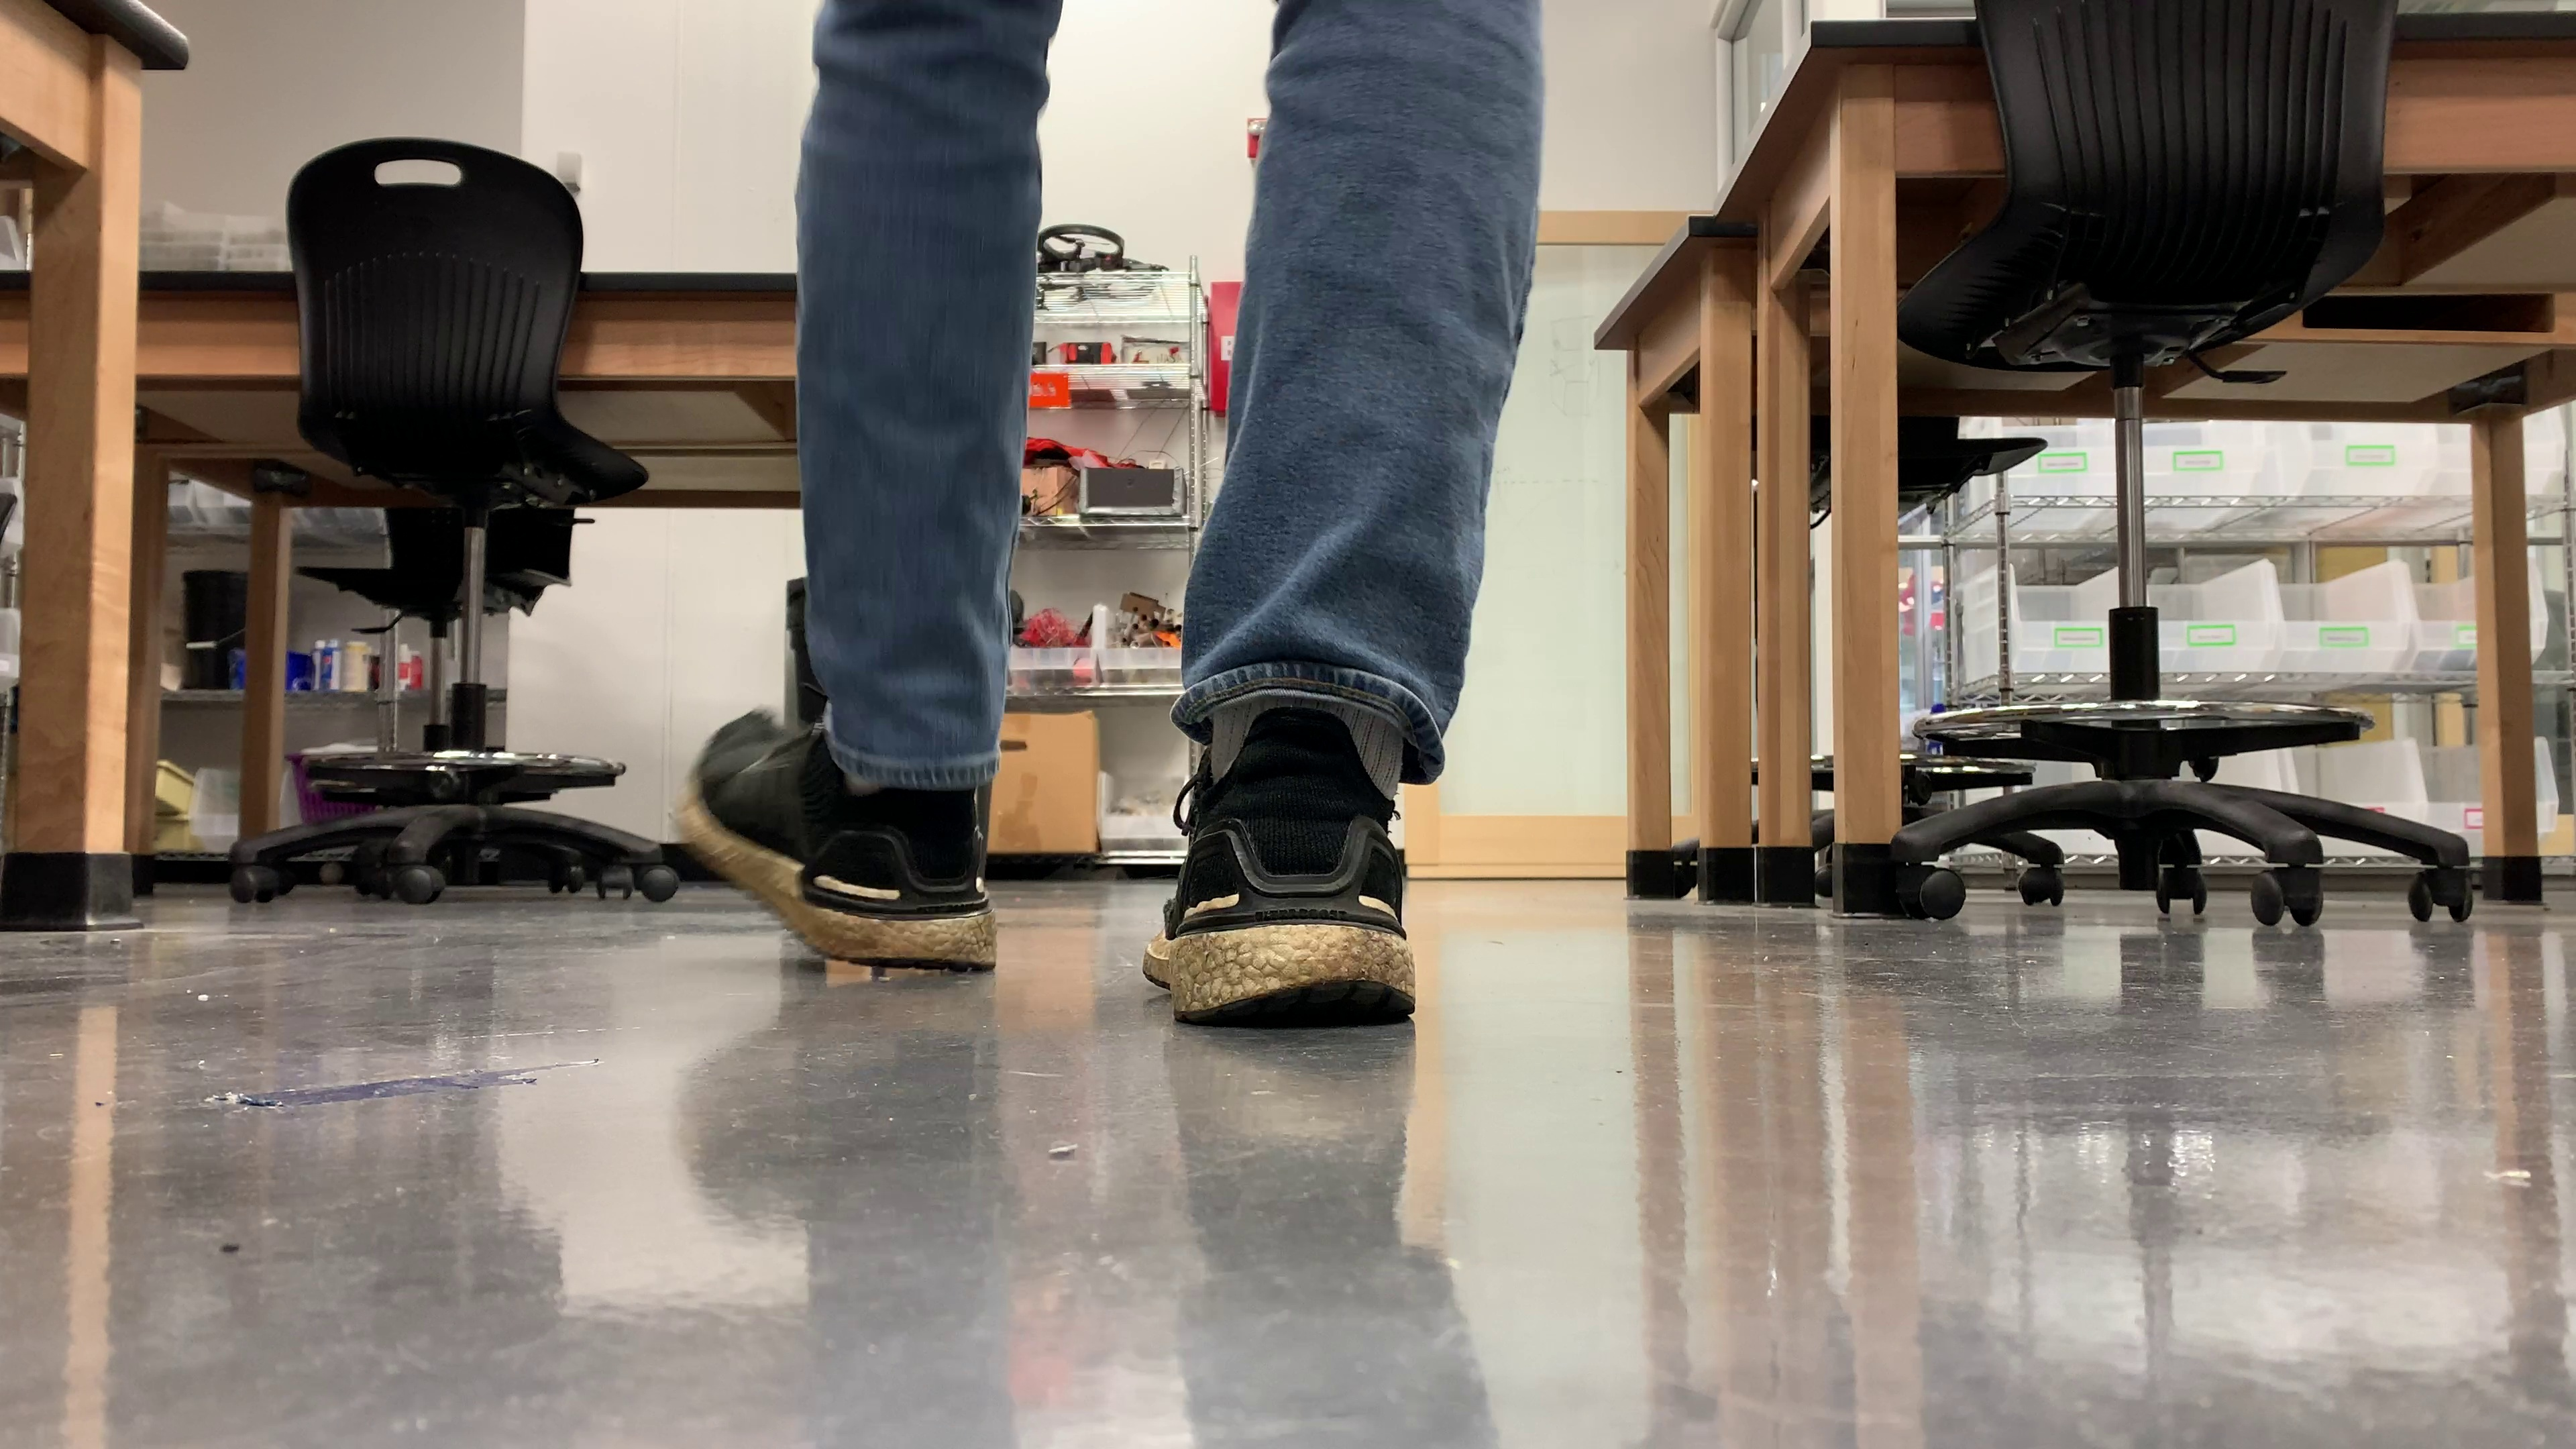shoe: (1141, 708, 1415, 1028), (674, 709, 996, 970)
